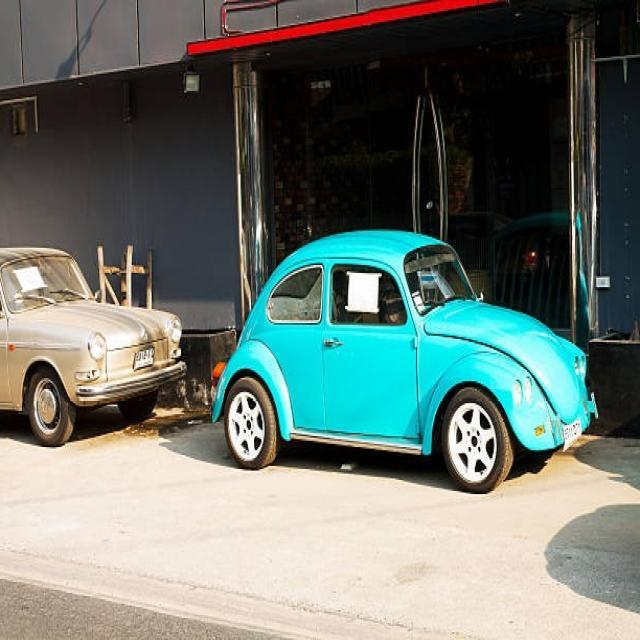car: (212, 232, 597, 476), (0, 248, 182, 442)
